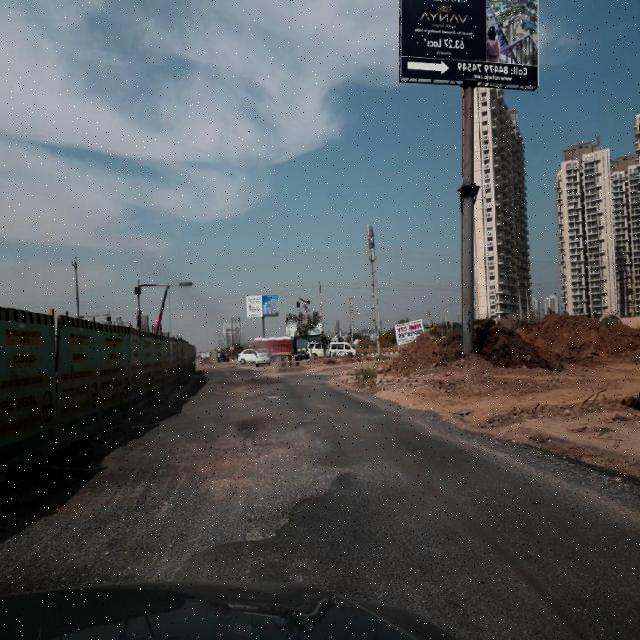D40: (1, 403, 360, 581)
